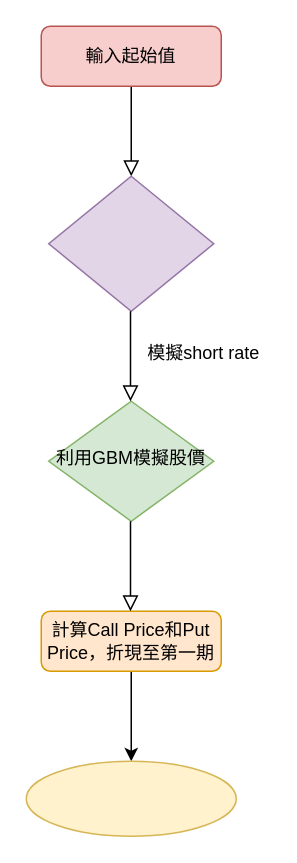
This 297x863 diagram has some shape labels left out. The shapes that lost their labels are listed below. From the top down, each one's box as (x1, y1, x2, y2) in pixels, then its label:
(47, 175, 214, 311): 套入QuantLib套件
(25, 760, 236, 836): 輸出call price和put price
